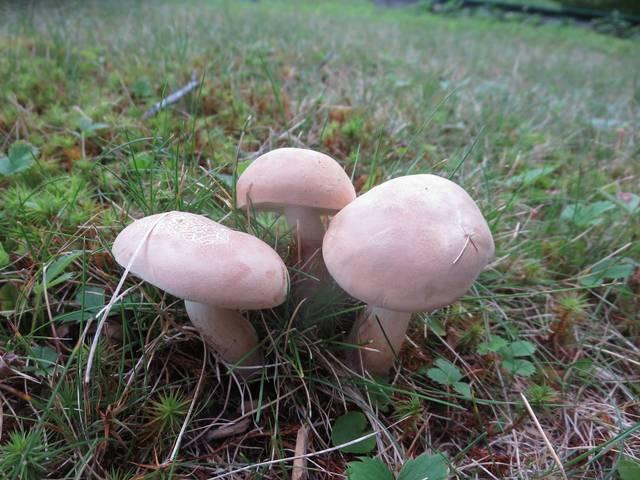Edible Mushroom: (321, 172, 495, 377), (109, 209, 290, 381), (234, 146, 356, 299)
